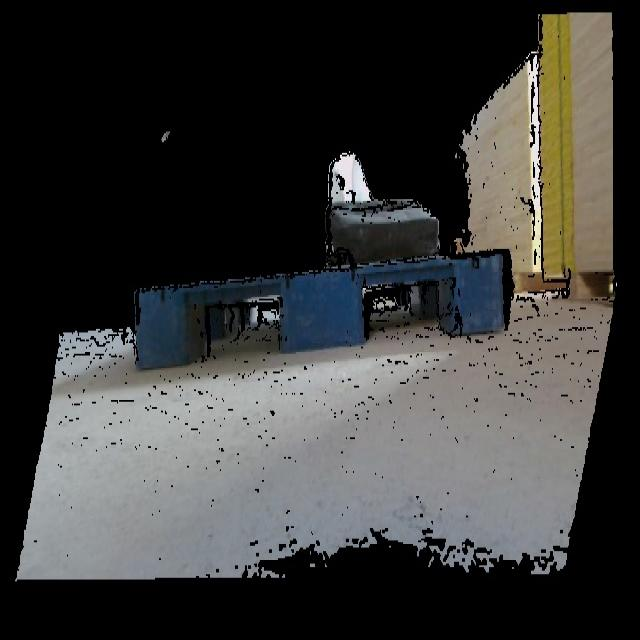block: (274, 265, 373, 351), (132, 281, 200, 372), (448, 253, 508, 336)
front: (129, 252, 514, 372)
